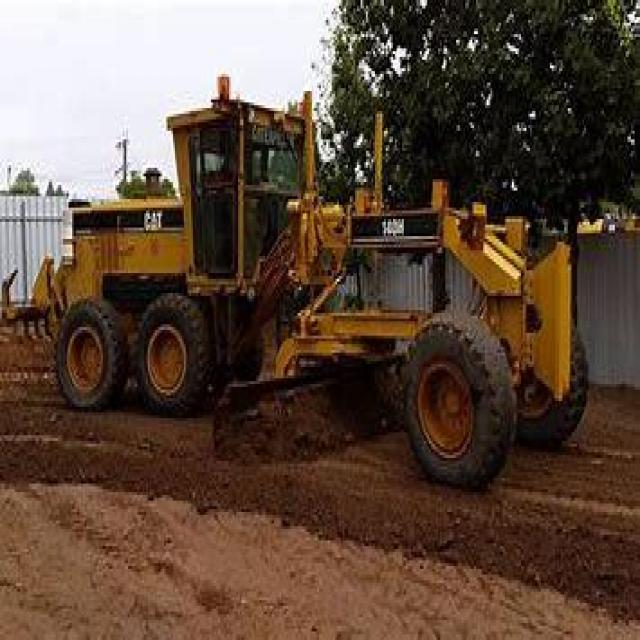Grader: (32, 74, 590, 486)
